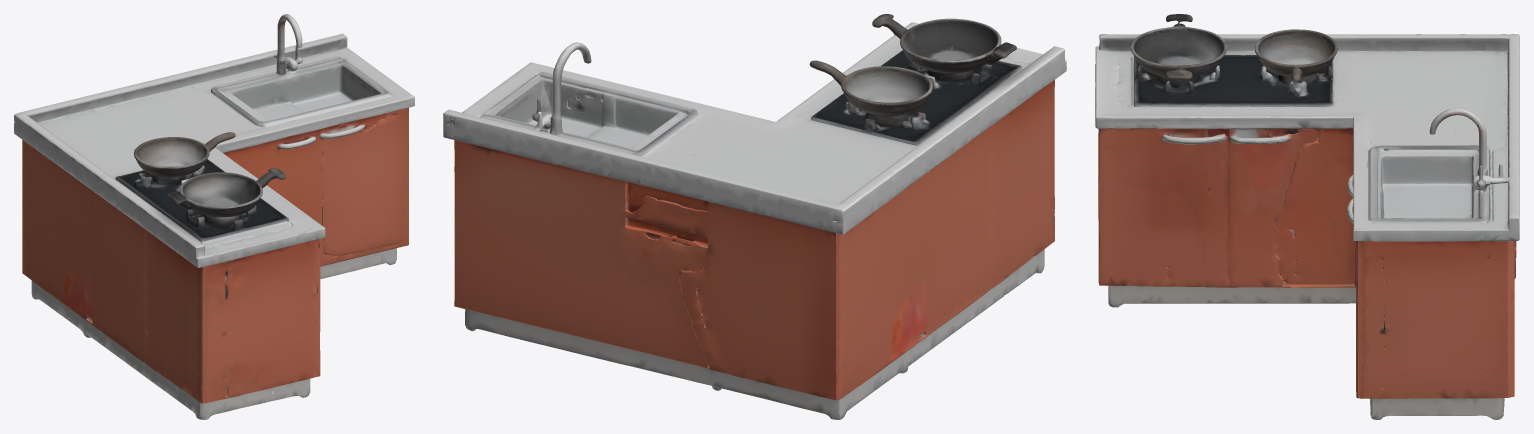
File: item_25d4413c.glb
3 renders of one model, left to right at view 1: azimuth 30°, elevation 25°; view 2: azimuth 150°, elevation 25°; view 3: azimuth 270°, elevation 25°, orthographic. The views are drawn at different scales.
Visible parts, largest first — view 1: world; view 2: world; view 3: world.
Part boxes in pixels (<box>): world: <box>14,14,414,419</box>; world: <box>443,14,1066,419</box>; world: <box>1095,14,1519,419</box>.
Size of the model in its own units: 2.4 by 1.65 by 2.33.
1 material, 1 textured.
